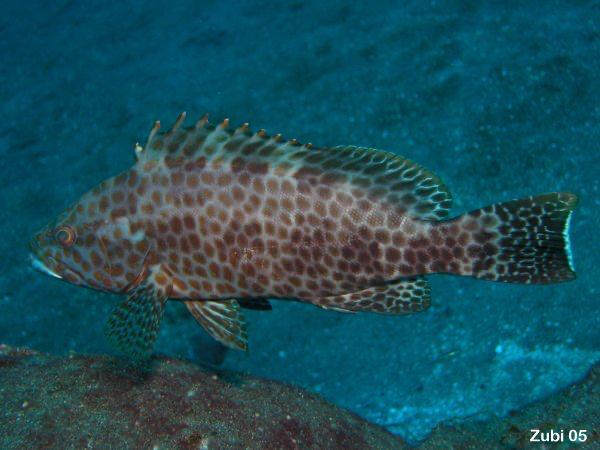Serranidae -Groupers-: (17, 111, 582, 359)
